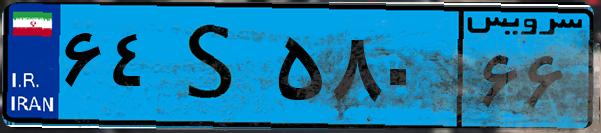0: (385, 28, 445, 110)
4: (110, 28, 158, 98)
5: (270, 28, 330, 110)
6: (57, 26, 110, 100), (475, 38, 525, 113), (525, 38, 570, 115)
8: (330, 28, 385, 110)
S: (158, 12, 270, 120)
